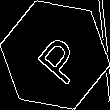P_NW: (25, 24, 85, 86)
